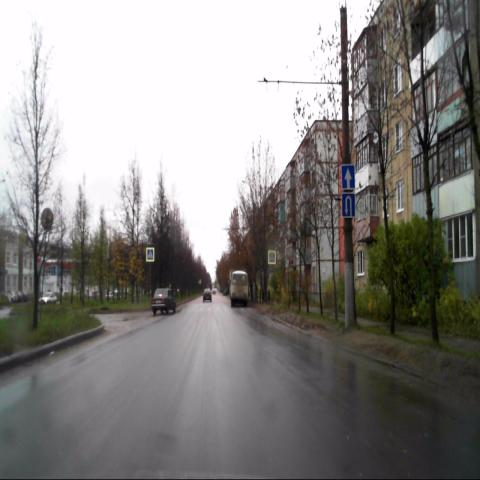6_3_1: (342, 193, 355, 217)
